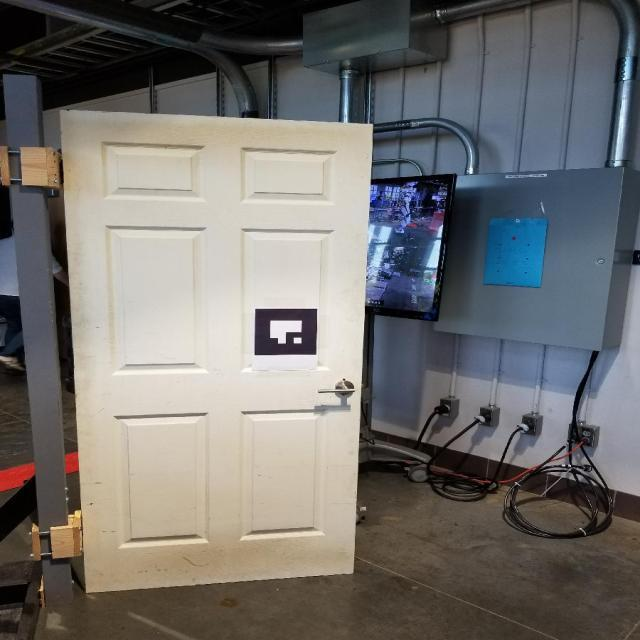door: (55, 103, 377, 600), (316, 374, 356, 399)
